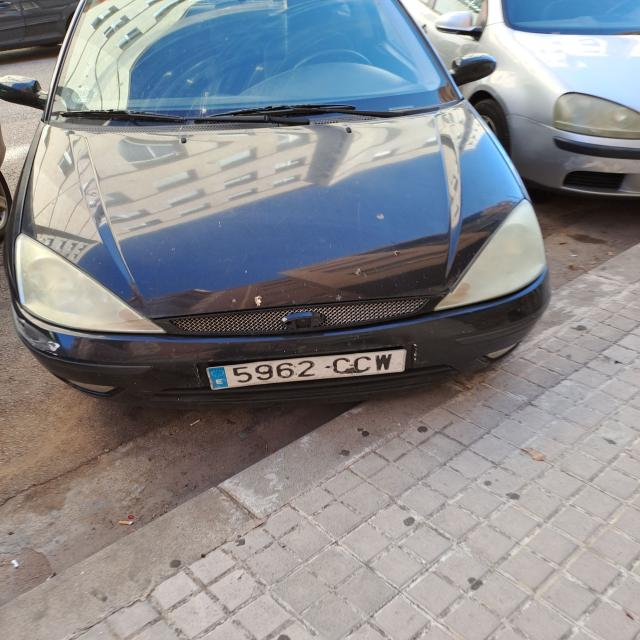license_plate-34Td: (207, 349, 406, 390)
